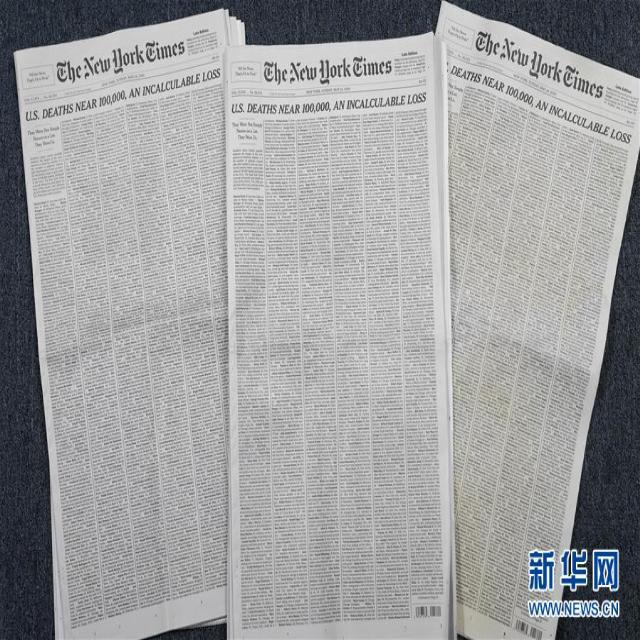newspaper: (14, 11, 251, 640), (222, 36, 456, 640), (438, 11, 640, 640)
